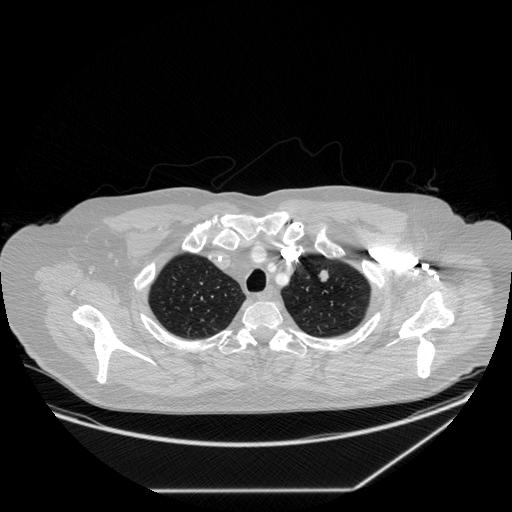nodule: (316, 267, 332, 283)
